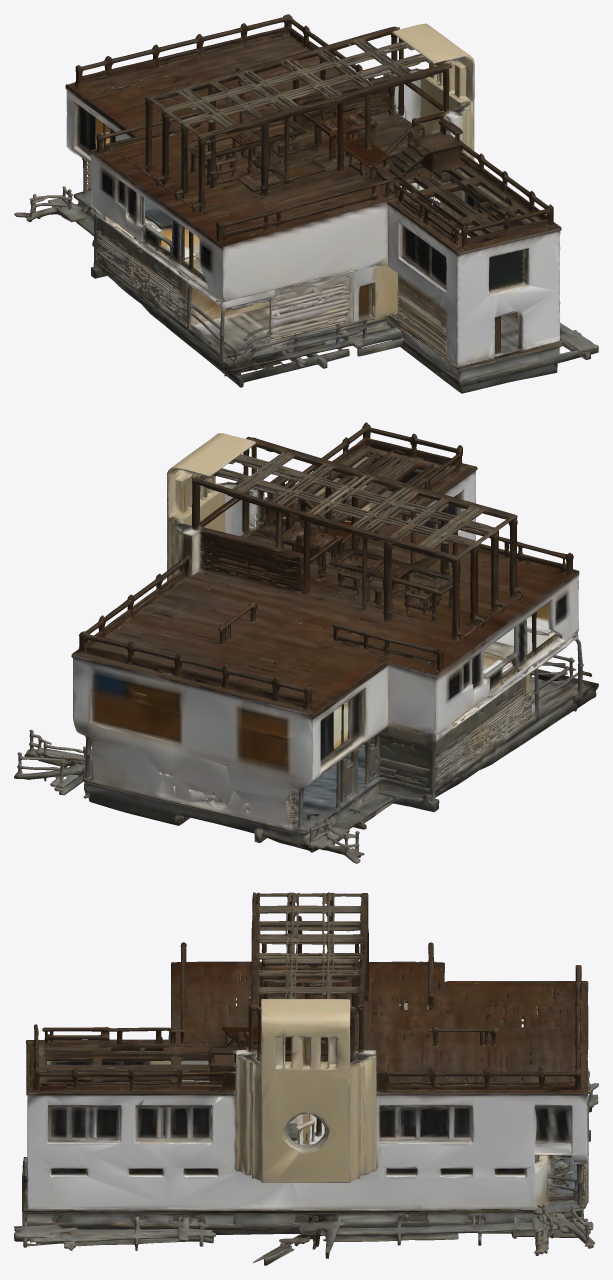
Rendered from egyptian-rowing-club-1.glb.
3 views of the same model, one above another, from view 1: azimuth 30°, elevation 25°; view 2: azimuth 150°, elevation 25°; view 3: azimuth 270°, elevation 25° (orthographic). The views are drawn at different scales.
Bounding box in the file's own units: 0.7119 × 0.4465 × 0.9996.
1 material, 1 textured.
